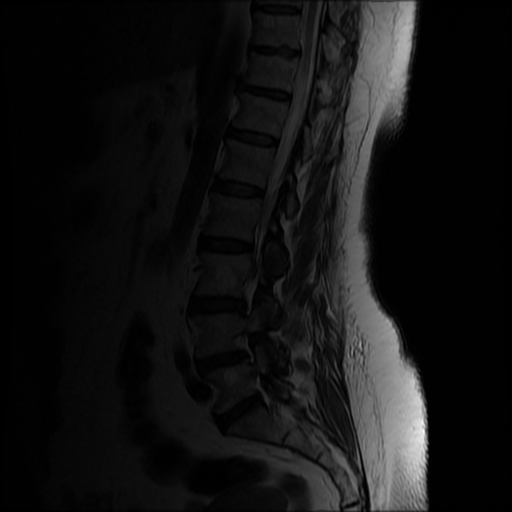LFS1: (225, 326, 269, 371)
